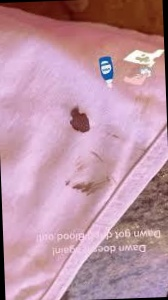blood: (66, 106, 93, 134)
